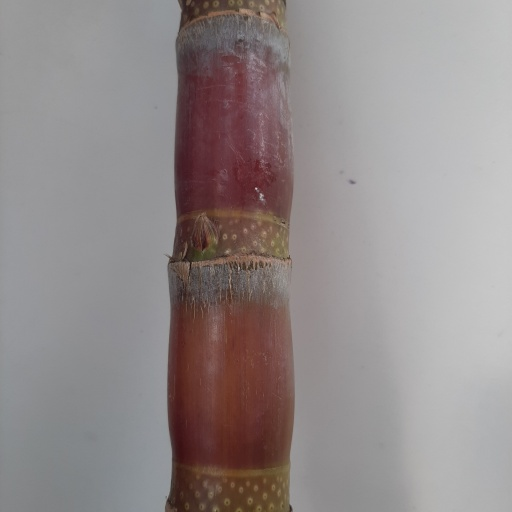Bud: (190, 214, 218, 252)
